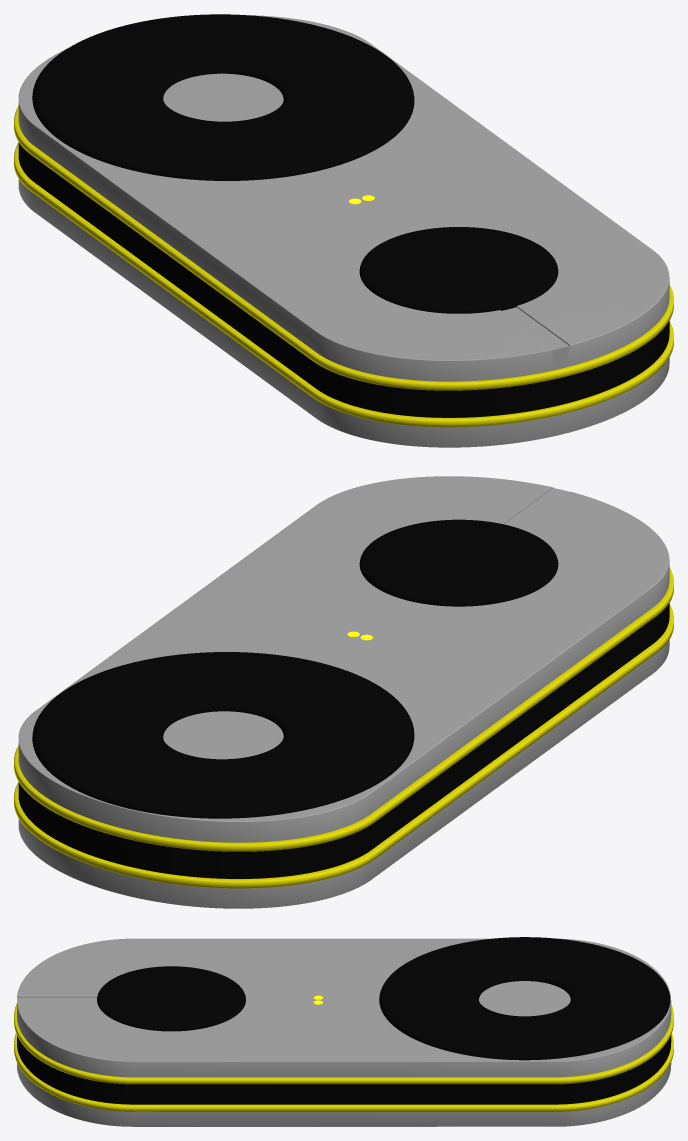
3 renders of one model, top to bottom at view 1: azimuth 30°, elevation 25°; view 2: azimuth 150°, elevation 25°; view 3: azimuth 270°, elevation 25°, orthographic. The views are drawn at different scales.
Parts seen in each view (by area): view 1: body, upper button, black part, golden part, lower button; view 2: body, upper button, black part, golden part, lower button; view 3: body, upper button, black part, golden part, lower button.
Part boxes in pixels (left/top/right/bottom): body: left=18, top=15, right=669, bottom=447; upper button: left=32, top=14, right=414, bottom=180; black part: left=18, top=142, right=669, bottom=417; golden part: left=14, top=106, right=673, bottom=427; lower button: left=359, top=227, right=558, bottom=313; body: left=18, top=476, right=669, bottom=908; upper button: left=32, top=652, right=414, bottom=818; black part: left=18, top=603, right=669, bottom=878; golden part: left=14, top=567, right=673, bottom=888; lower button: left=359, top=519, right=558, bottom=606; body: left=17, top=938, right=671, bottom=1126; upper button: left=379, top=937, right=670, bottom=1060; black part: left=17, top=1035, right=671, bottom=1104; golden part: left=14, top=1003, right=673, bottom=1111; lower button: left=97, top=966, right=245, bottom=1031.
Bounding box in the file's own units: 4.87 × 1.25 × 10.76.
